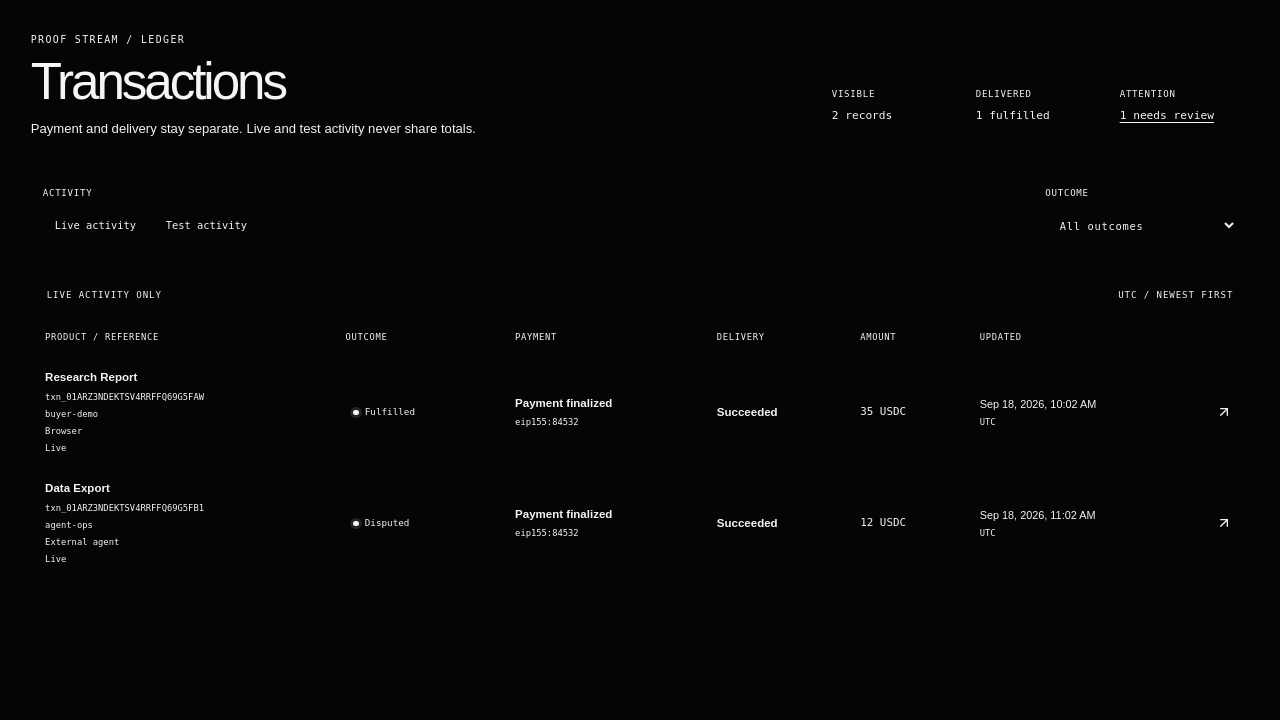
Test case: transaction list › separates test activity and filters abandoned checkouts
The image size is (1280, 720).
Expected: the text "Test checkout" is not shown
Click the button "Test activity" at {"x": 206, "y": 226}, box [154,207,259,244]
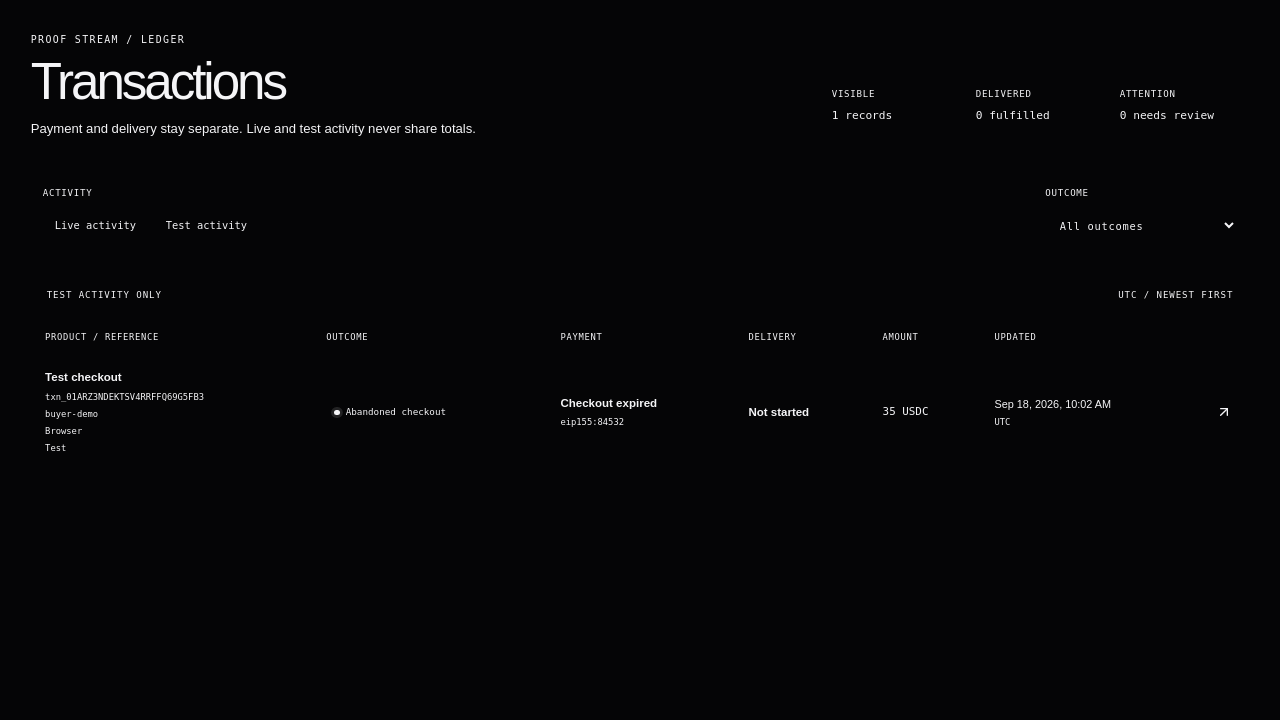
Expected: the text "Test checkout" is shown, [45,371,122,383]
Expected: the text "Abandoned checkout" is shown, [334,406,446,417]
Expected: the text "Checkout expired" is shown, [560,397,657,409]
Select "Fulfilled" in the dropdown labelled "Outcome" at {"x": 1141, "y": 226}, box [1045,207,1237,244]
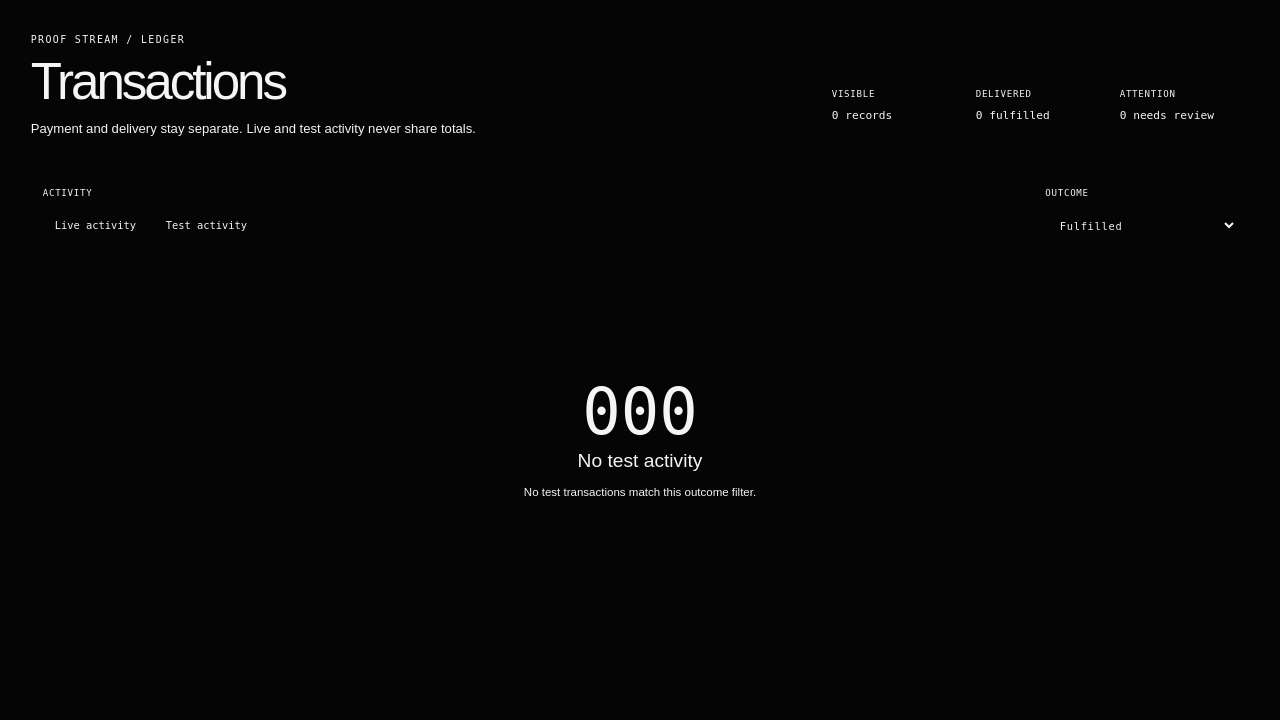
Expected: the text "Test checkout" is gone
Expected: the heading "No test activity" is shown, [578,450,702,471]
